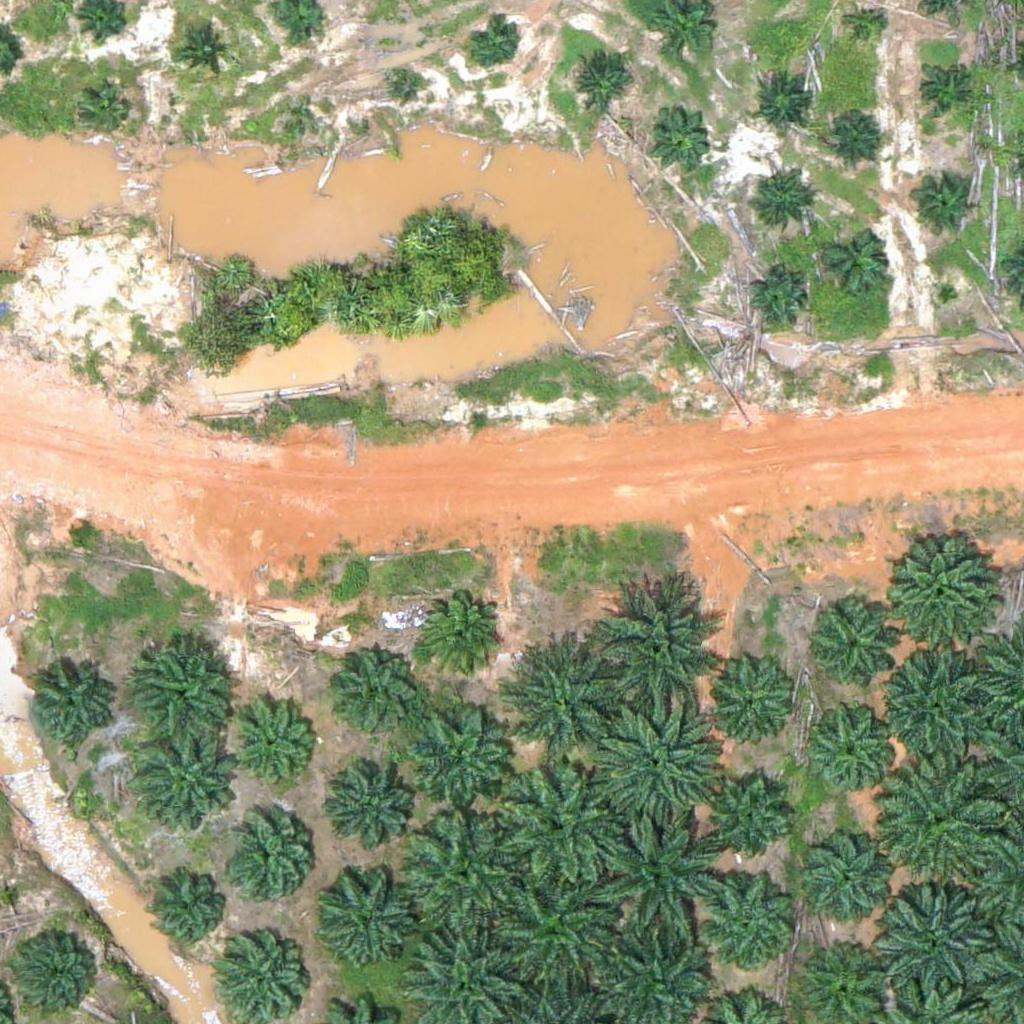Kelapa_Sawit: (875, 646, 1000, 772), (874, 875, 999, 1001), (597, 579, 722, 705), (592, 700, 717, 826), (593, 812, 718, 938), (506, 635, 631, 761), (501, 760, 626, 886), (494, 863, 619, 989), (403, 809, 528, 935), (886, 757, 1011, 882), (880, 532, 993, 646), (698, 877, 798, 978), (413, 707, 513, 808), (136, 731, 236, 832), (132, 638, 232, 739), (700, 648, 800, 748), (314, 869, 414, 969), (805, 827, 893, 915), (335, 648, 423, 736), (228, 703, 316, 791), (225, 816, 313, 904), (27, 663, 115, 751), (145, 863, 232, 951), (812, 704, 899, 792), (811, 605, 898, 693), (705, 777, 792, 865), (415, 591, 502, 679), (329, 767, 416, 855), (14, 928, 101, 1016), (813, 224, 888, 300), (746, 172, 809, 235), (645, 104, 708, 167), (913, 173, 976, 236), (745, 269, 808, 332), (568, 49, 630, 112), (753, 74, 815, 136), (820, 102, 882, 164), (179, 28, 229, 79), (468, 18, 518, 68), (917, 64, 967, 114), (81, 90, 131, 140), (849, 10, 887, 48), (393, 71, 418, 96), (298, 105, 323, 130)
